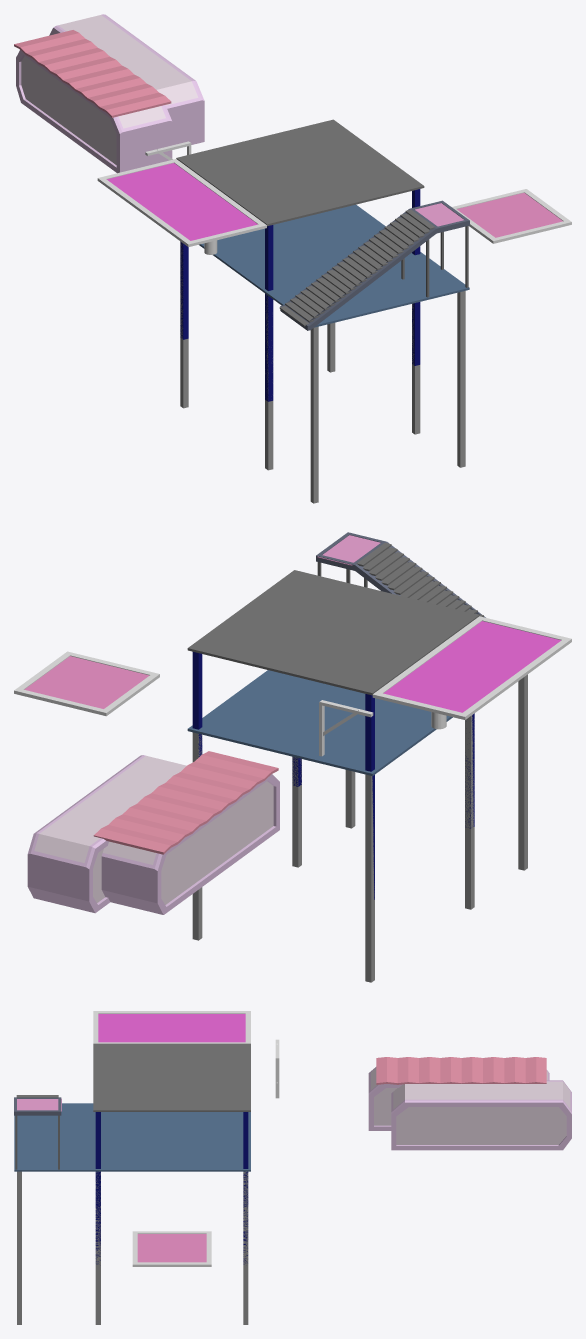
Rendered from Stacks.fbx.
3 renders of one model, top to bottom at view 1: azimuth 30°, elevation 25°; view 2: azimuth 150°, elevation 25°; view 3: azimuth 270°, elevation 25°, orthographic. The views are drawn at different scales.
Parts seen in each view (by area): view 1: Cube.003, Cube.002, Cube.001, Cube.004, Cube.006, Cube, Cube.005; view 2: Cube.002, Cube.003, Cube.001, Cube.006, Cube, Cube.005, Cube.004, Cube.007; view 3: Cube.003, Cube.002, Cube, Cube.001, Cube.006, Cube.005, Cube.004.
Part boxes in pixels (x1,y1,x2,y2): Cube.003: (180,204,469,503); Cube.002: (176,119,424,401); Cube.001: (14,30,172,173); Cube.004: (279,200,469,330); Cube.006: (97,159,266,247); Cube: (49,14,204,145); Cube.005: (452,189,571,243); Cube.002: (187,570,479,899); Cube.003: (187,670,527,982); Cube.001: (93,751,279,914); Cube.006: (372,616,571,719); Cube: (27,755,186,913); Cube.005: (14,651,159,716); Cube.004: (316,532,485,617); Cube.007: (319,700,373,756); Cube.003: (14,1103,250,1324); Cube.002: (93,1043,250,1264); Cube: (391,1080,571,1150); Cube.001: (368,1057,549,1130); Cube.006: (93,1011,250,1043); Cube.005: (132,1231,211,1266); Cube.004: (14,1095,61,1169).
Bounding box in the file's own units: 1550 × 904 × 2120.
